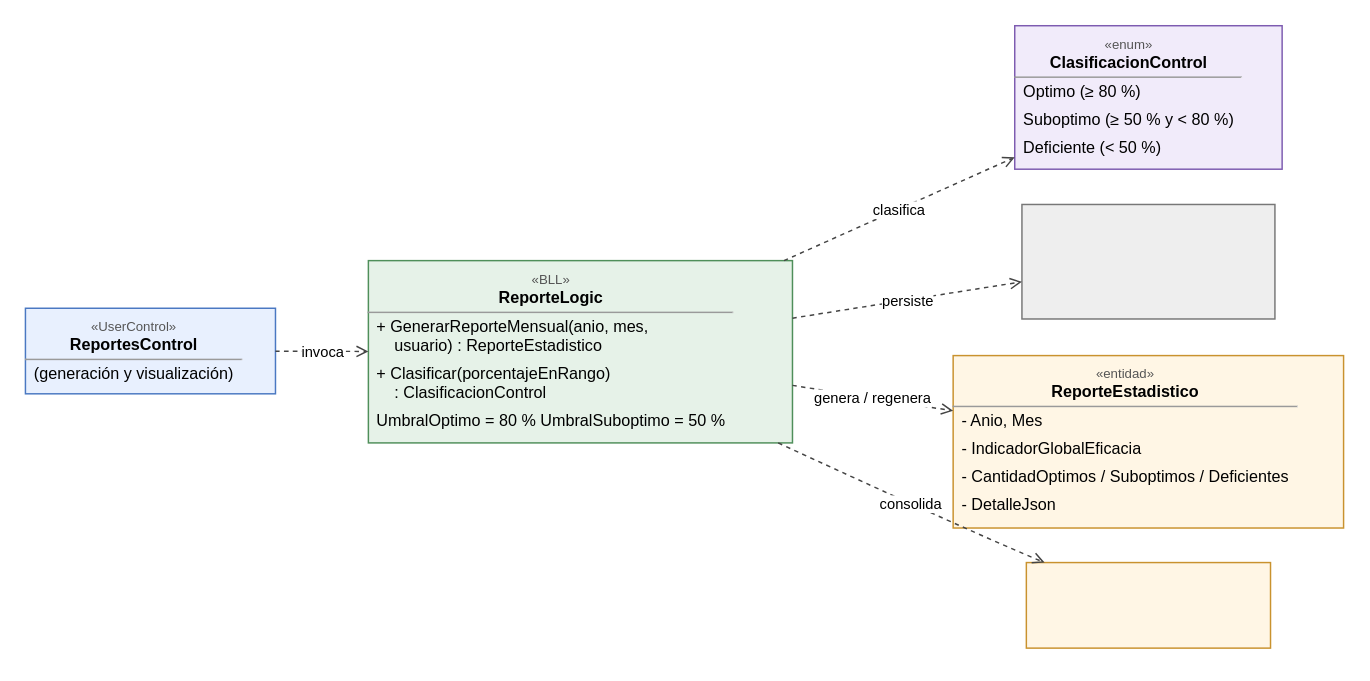
The diagram is 1370 pixels wide and 681 high, and some of its shapes have lost their labels. Here are the shapes that lost their labels. From the top down, the box of each, then its label:
(1020, 203, 1275, 319): «EF Core» NegocioDbContext + SaveChanges() : int (firma DVH/DVV y audita)
(1025, 561, 1271, 648): «entidad» MedicionRIN - ValorRIN, FechaMedicion
